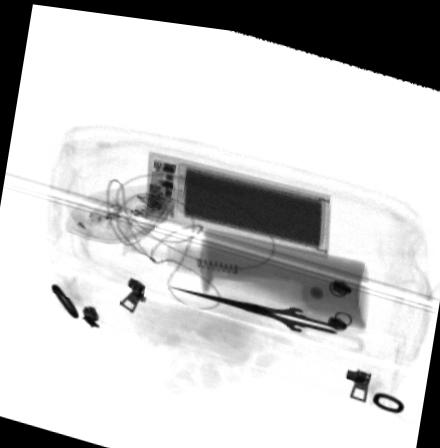Powerbank: (141, 146, 332, 254)
Scissors: (161, 284, 369, 347)
